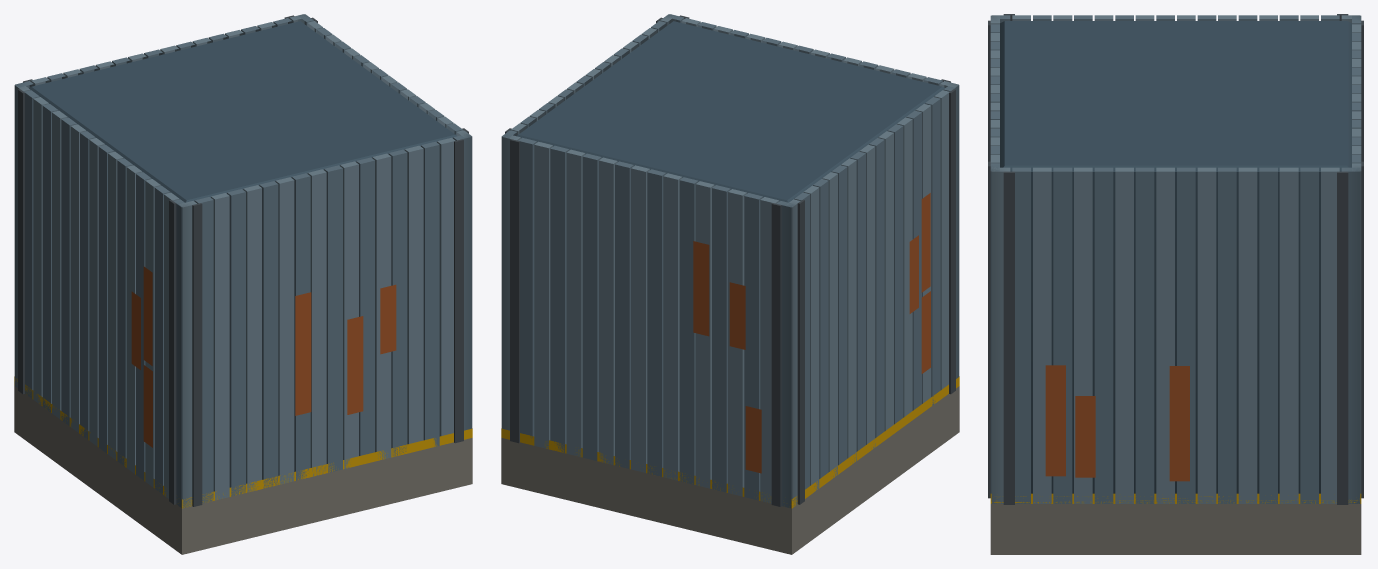
Rendered from wall_a.fbx.
3 renders of one model, left to right at view 1: azimuth 30°, elevation 25°; view 2: azimuth 150°, elevation 25°; view 3: azimuth 270°, elevation 25°, orthographic. The views are drawn at different scales.
Visible parts, largest first — view 1: wall_a; view 2: wall_a; view 3: wall_a.
Boxes of the visible parts, bbox=[...] form: wall_a: bbox=[14, 14, 472, 554]; wall_a: bbox=[501, 14, 959, 554]; wall_a: bbox=[988, 14, 1363, 554].
Bounding box in the file's own units: 4 × 4.5 × 4.
